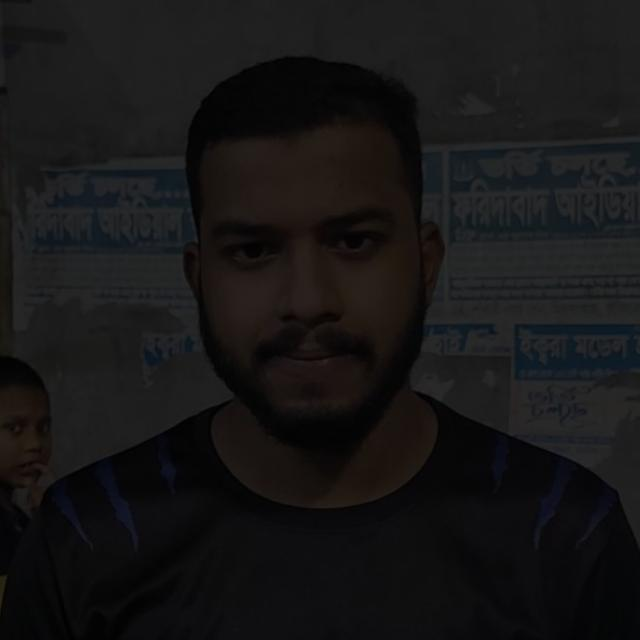Natural: (155, 119, 458, 434)
